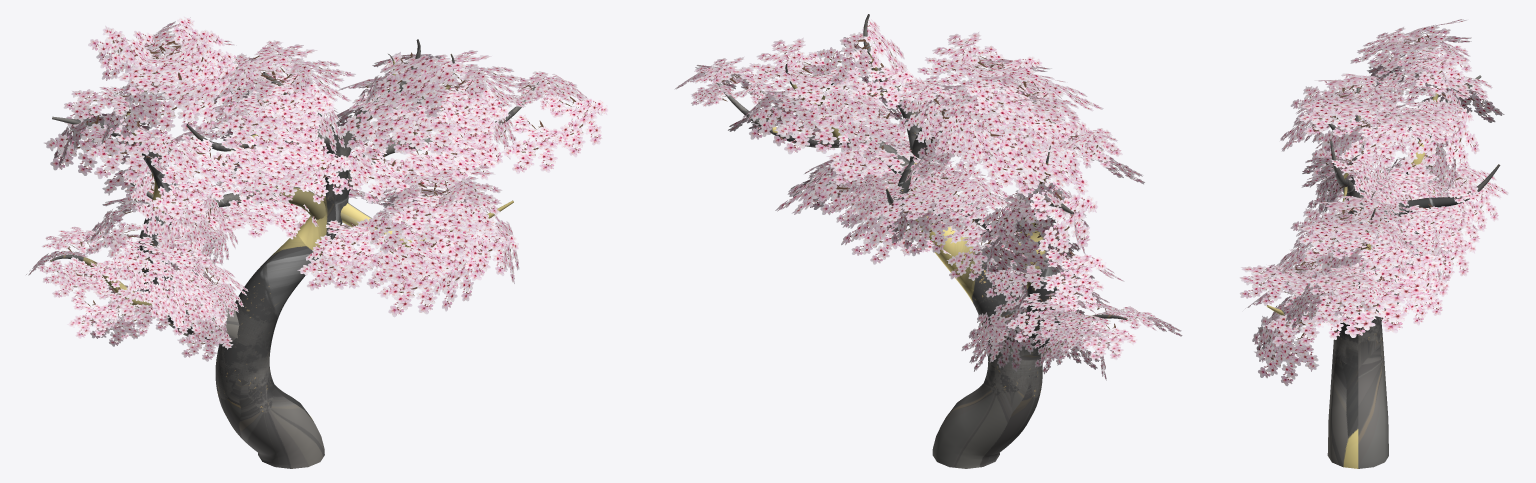
The model's file is CERISIER.fbx.
3 views of the same model, side by side, from view 1: azimuth 30°, elevation 25°; view 2: azimuth 150°, elevation 25°; view 3: azimuth 270°, elevation 25° (orthographic). The views are drawn at different scales.
Visible parts, largest first — view 1: arbre_cerisier_plane; view 2: arbre_cerisier_plane; view 3: arbre_cerisier_plane.
Boxes of the visible parts, x1=… form: arbre_cerisier_plane: x1=26, y1=16, x2=608, y2=468; arbre_cerisier_plane: x1=674, y1=14, x2=1182, y2=468; arbre_cerisier_plane: x1=1239, y1=19, x2=1508, y2=468.
Bounding box in the file's own units: 90.93 × 69.49 × 48.85.
